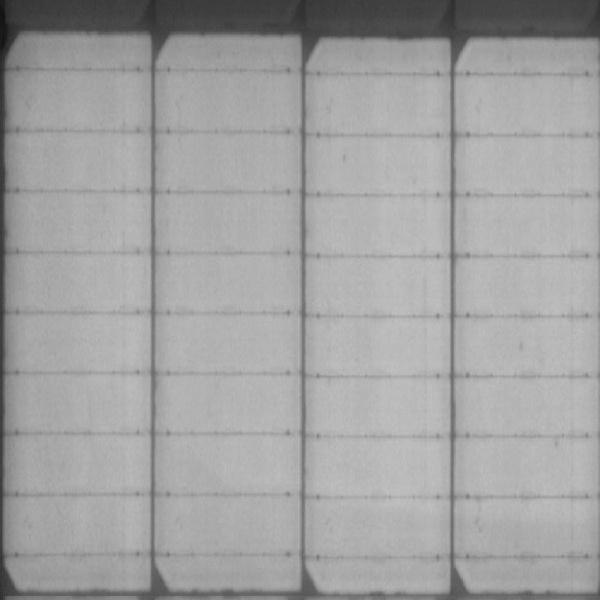no_electricity: (4, 1, 600, 39)
